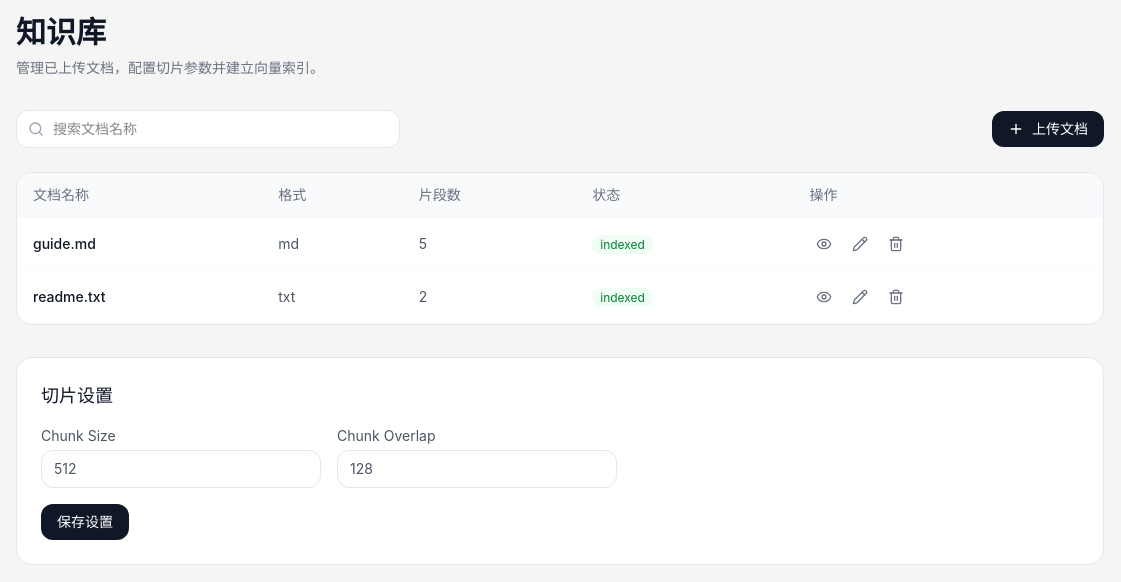
Scenario: KnowledgePage › 按名称搜索过滤文档
Expected: the text "guide.md" is shown, [17,218,262,270]
Type "guide" into the field with placeholder "搜索文档名称" at (208, 129), box [16,110,400,148]
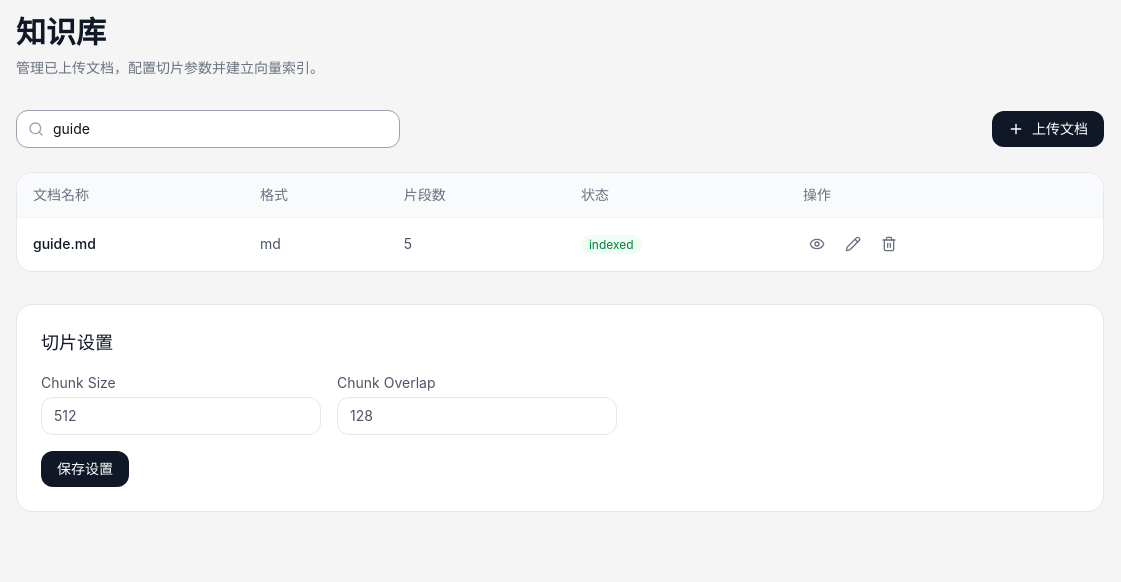
Expected: the text "guide.md" is shown, [17,218,244,270]
Expected: the text "readme.txt" is gone
